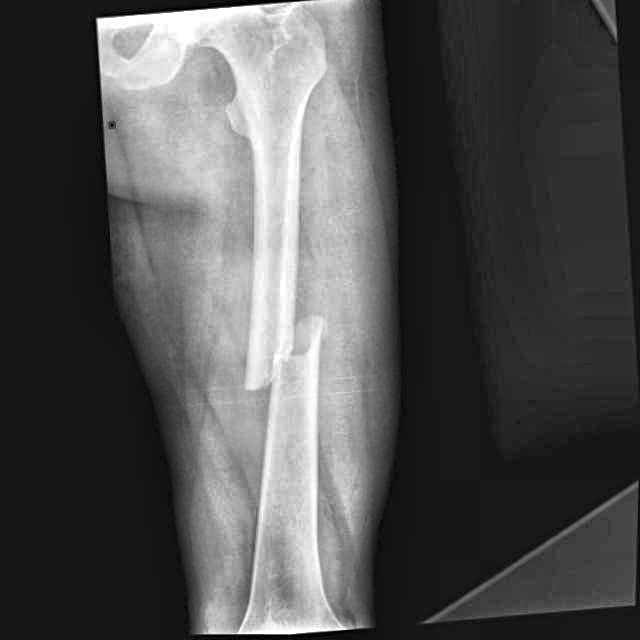Transverse: (235, 298, 344, 425)
